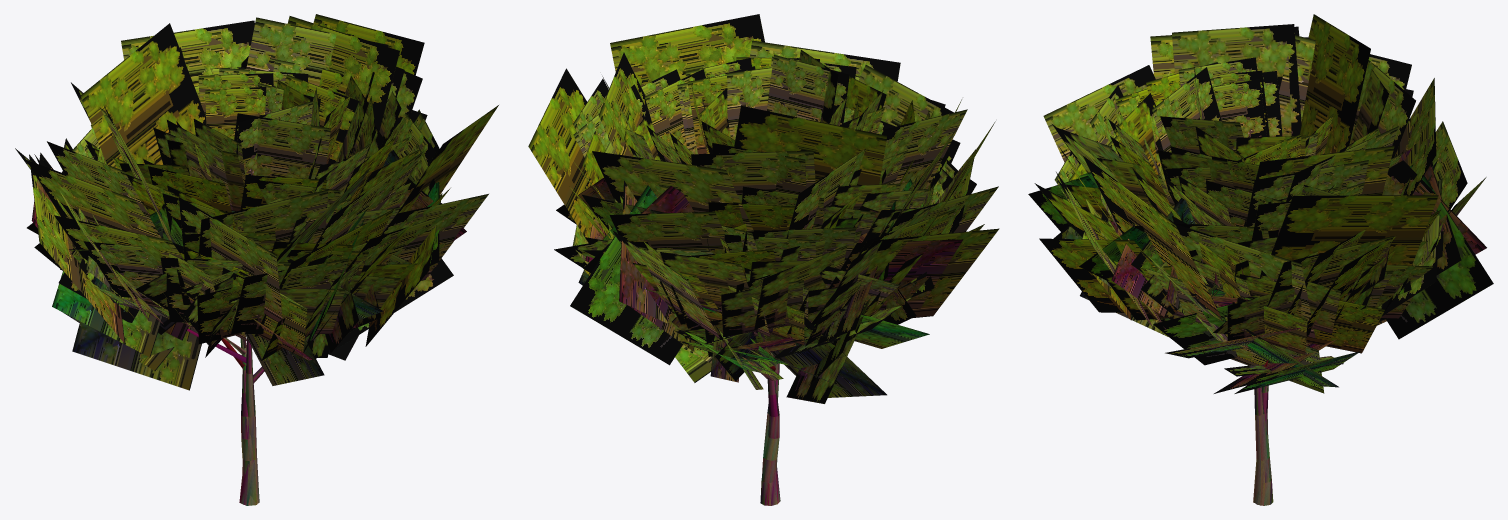
File: tree-maple.glb
3 views of the same model, side by side, from view 1: azimuth 30°, elevation 25°; view 2: azimuth 150°, elevation 25°; view 3: azimuth 270°, elevation 25° (orthographic).
Visible parts, largest first — view 1: lo-leaf, hi-leaf, lo-bark, hi-bark; view 2: lo-leaf, hi-leaf, hi-bark; view 3: lo-leaf, hi-leaf, lo-bark, hi-bark.
Part boxes in pixels (x1,y1,x2,y2): lo-leaf: [15, 14, 498, 390]; hi-leaf: [27, 47, 466, 360]; lo-bark: [187, 328, 264, 505]; hi-bark: [221, 337, 259, 505]; lo-leaf: [528, 14, 999, 403]; hi-leaf: [556, 50, 976, 389]; hi-bark: [760, 352, 780, 505]; lo-leaf: [1028, 14, 1493, 393]; hi-leaf: [1053, 57, 1443, 354]; lo-bark: [1253, 360, 1270, 505]; hi-bark: [1253, 385, 1273, 505].
Size of the model in its own units: 12.99 by 12.97 by 12.41.
2 materials, 2 textured.
